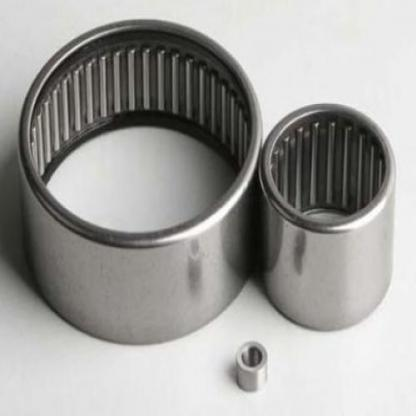FOD: (13, 14, 265, 344), (259, 95, 404, 335)
